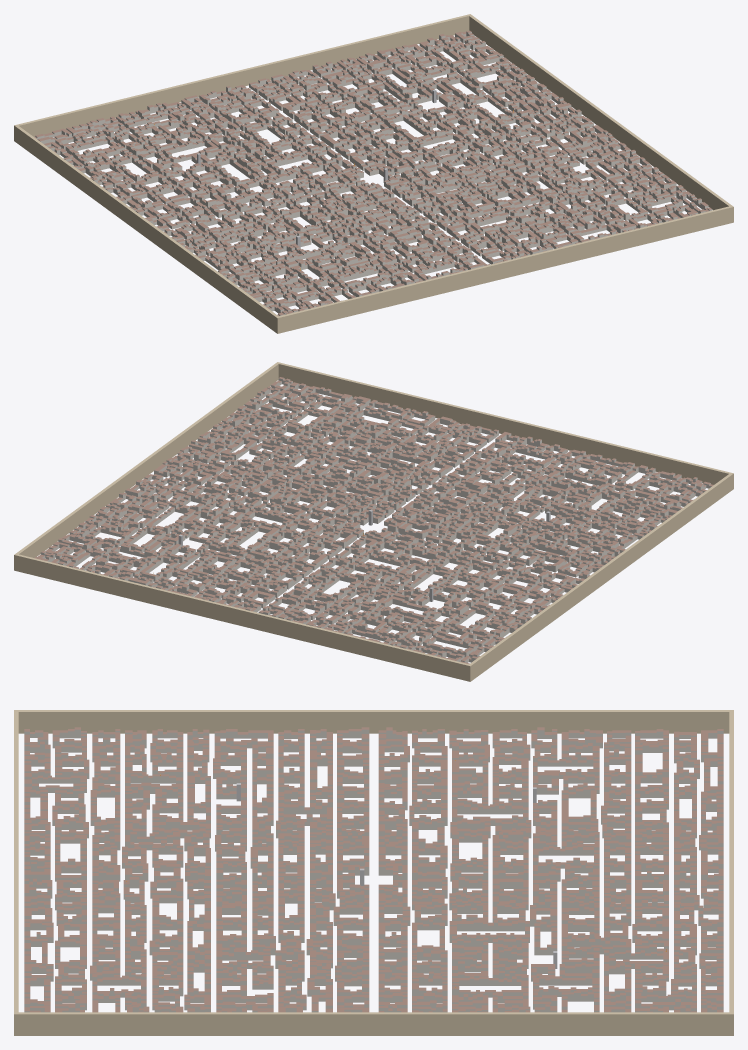
The model's file is district.glb.
3 views of the same model, one above another, from view 1: azimuth 30°, elevation 25°; view 2: azimuth 150°, elevation 25°; view 3: azimuth 270°, elevation 25° (orthographic). The views are drawn at different scales.
Parts seen in each view (by area): view 1: district_wall, district_building_c03_04, district_building_c02_04, district_building_c03_01, district_building_c05_04, district_building_c04_04, district_building_c03_02, district_building_c05_02, district_building_c04_03, district_building_c05_03, district_building_c01_04, district_building_c02_01 (+25 smaller); view 2: district_wall, district_building_c03_04, district_building_c03_01, district_building_c02_04, district_building_c05_04, district_building_c04_03, district_building_c04_04, district_building_c05_03, district_building_c02_01, district_building_c01_04, district_building_c03_03, district_building_c02_03 (+25 smaller); view 3: district_wall, district_building_c03_01, district_building_c02_04, district_building_c00_01, district_building_c02_01, district_building_c00_04, district_building_c03_02, district_building_c00_05, district_building_c00_02, district_building_c04_03, district_building_c03_00, district_building_c04_00 (+25 smaller).
Boxes of the visible parts, box(x1,y1,x2,y2) form: district_wall: box(14, 14, 733, 333); district_building_c03_04: box(419, 190, 536, 243); district_building_c02_04: box(341, 207, 457, 259); district_building_c03_01: box(290, 95, 401, 149); district_building_c05_04: box(570, 157, 683, 206); district_building_c04_04: box(490, 173, 604, 223); district_building_c03_02: box(335, 128, 447, 176); district_building_c05_02: box(480, 92, 593, 143); district_building_c04_03: box(452, 142, 562, 191); district_building_c05_03: box(525, 125, 638, 177); district_building_c01_04: box(266, 227, 385, 276); district_building_c02_01: box(212, 115, 327, 164); district_wall: box(14, 362, 733, 681); district_building_c03_04: box(343, 444, 456, 497); district_building_c03_01: box(211, 538, 327, 591); district_building_c02_04: box(419, 462, 531, 516); district_building_c05_04: box(197, 406, 312, 459); district_building_c04_03: box(229, 460, 336, 508); district_building_c04_04: box(270, 427, 382, 479); district_building_c05_03: box(154, 440, 268, 491); district_building_c02_01: box(291, 557, 404, 610); district_building_c01_04: box(492, 479, 599, 532); district_building_c03_03: box(301, 475, 413, 525); district_building_c02_03: box(384, 495, 490, 545); district_wall: box(14, 710, 733, 1035); district_building_c03_01: box(492, 877, 610, 931); district_building_c02_04: box(134, 826, 258, 881); district_building_c00_01: box(492, 727, 612, 783); district_building_c02_01: box(492, 826, 613, 881); district_building_c00_04: box(134, 729, 258, 784); district_building_c03_02: box(378, 877, 493, 931); district_building_c00_05: box(24, 727, 137, 783); district_building_c00_02: box(378, 727, 489, 784); district_building_c04_03: box(252, 925, 369, 981); district_building_c03_00: box(609, 877, 723, 931); district_building_c04_00: box(609, 924, 723, 981).
Size of what is drawn, in the model's own units: 1520 by 50 by 1520.
